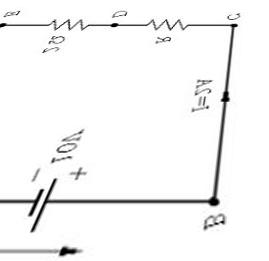resistor: (44, 15, 97, 35), (146, 11, 191, 30)
